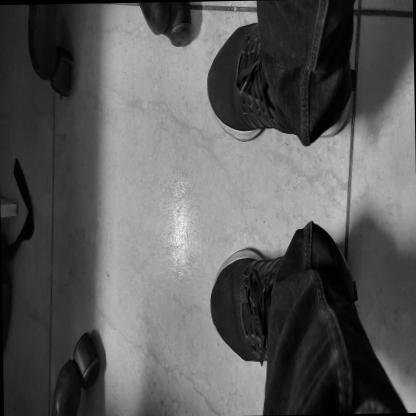ankle: (274, 111, 277, 120), (270, 292, 272, 298)
heel: (346, 106, 350, 114), (282, 257, 284, 265)
left_foot: (207, 19, 354, 142)
pinky: (223, 331, 227, 339), (220, 52, 224, 60)
right_foot: (210, 249, 286, 363)
toe: (216, 103, 220, 113), (220, 274, 224, 282)
